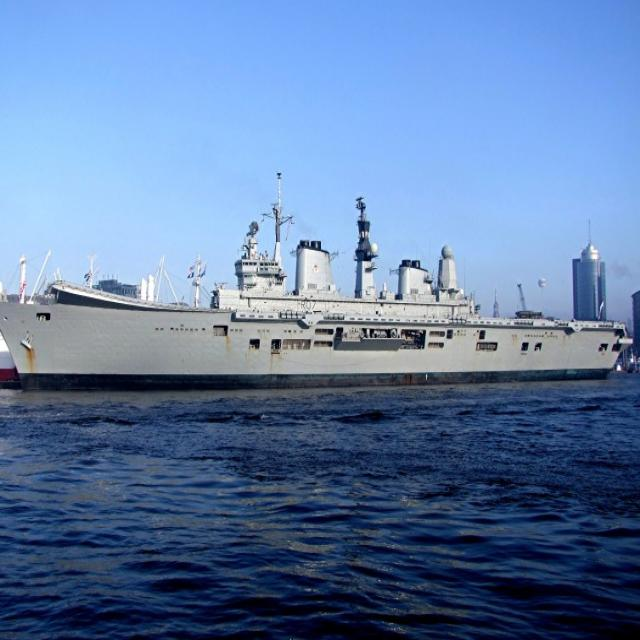Portanaves: (1, 157, 640, 400)
